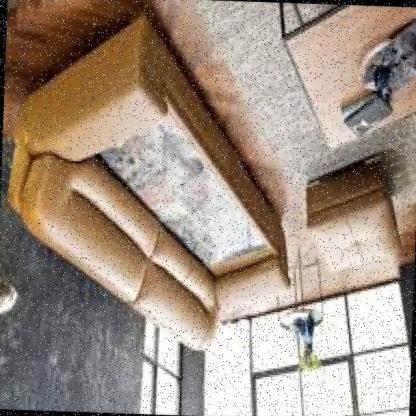Sofa: (0, 0, 307, 365)
